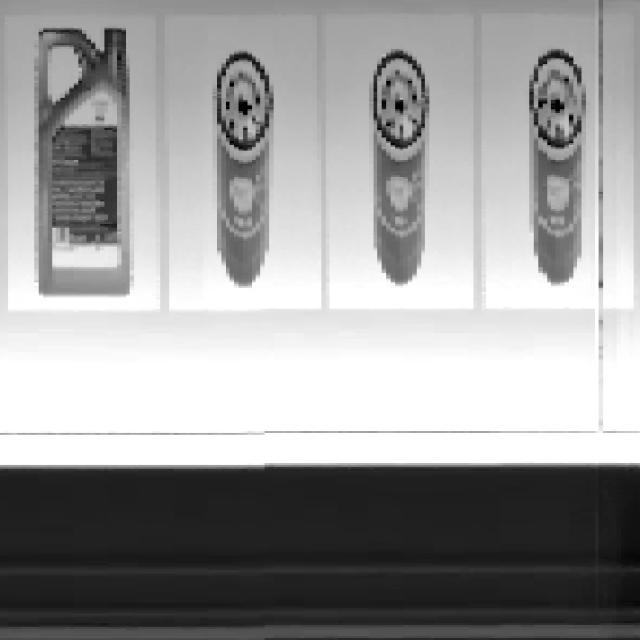motor_oil: (32, 15, 132, 302)
oil_filter: (370, 42, 432, 290), (526, 40, 586, 287), (213, 51, 274, 293)
